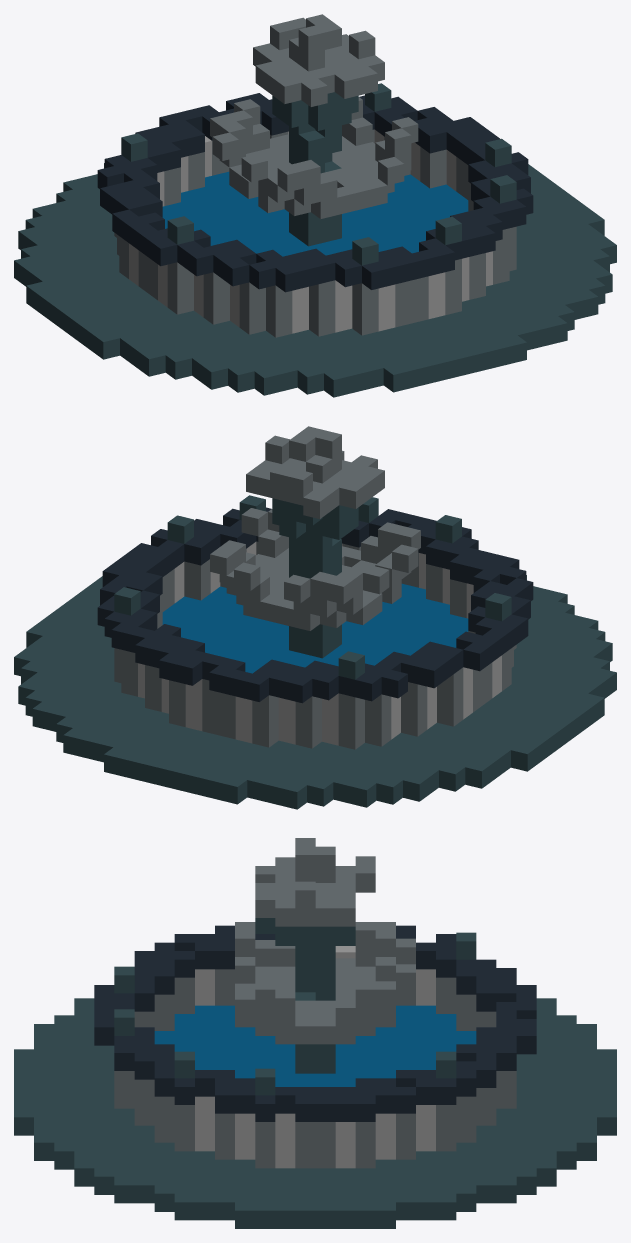
File: fountain_damaged.obj
The picture shows the model from 3 angles, top to bottom: view 1: azimuth 30°, elevation 25°; view 2: azimuth 150°, elevation 25°; view 3: azimuth 270°, elevation 25°; orthographic projection. The views are drawn at different scales.
Size of the model in its own units: 3 by 1.4 by 3.
1 material, 1 textured.
